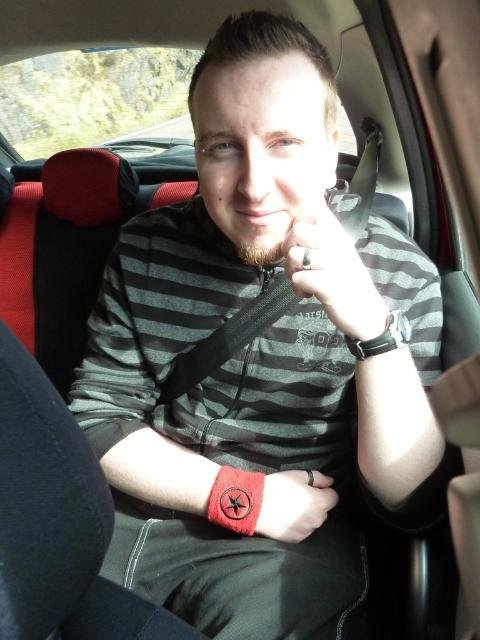SafeDriving: (197, 130, 248, 166), (262, 127, 310, 158)
Seatbelt: (156, 127, 382, 403)
